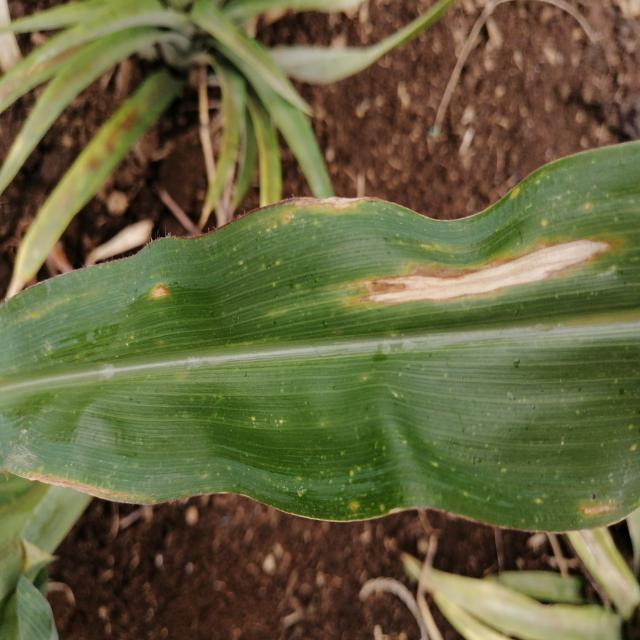Corn_Leaf_Blight: (299, 145, 640, 542)
